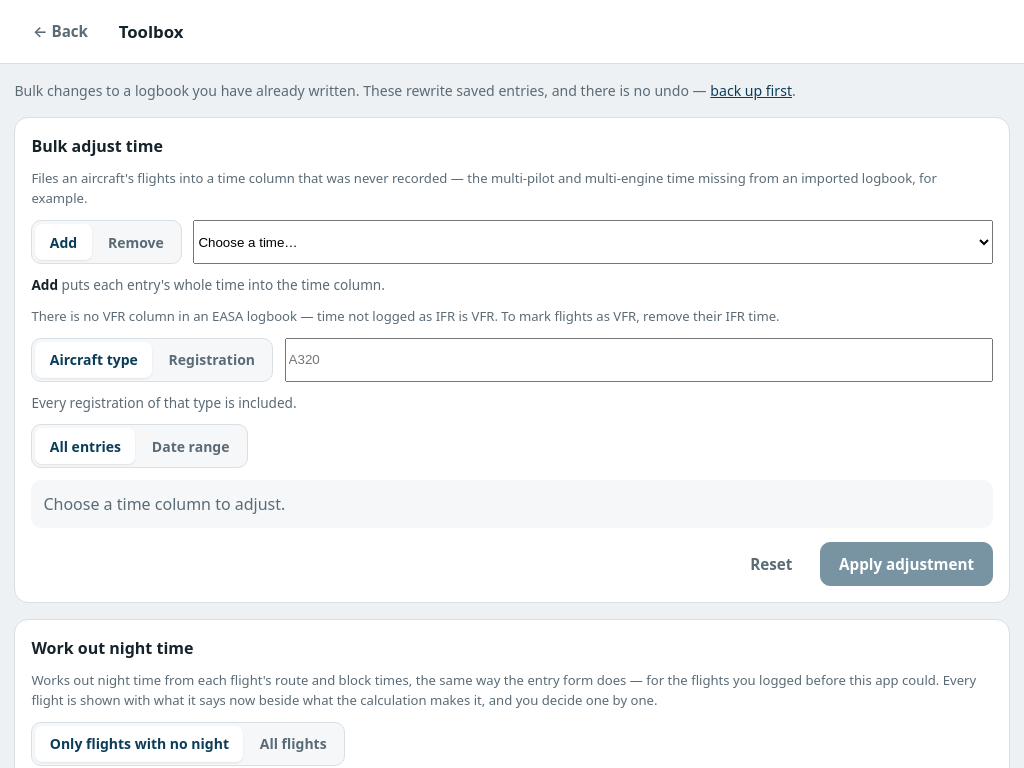
Test: what add and remove say they do › explains Remove as zeroing the column, total untouched
Select "IFR" in the dropdown named "Time column". click: coordinates (593, 242)
box: [193,220,993,264]
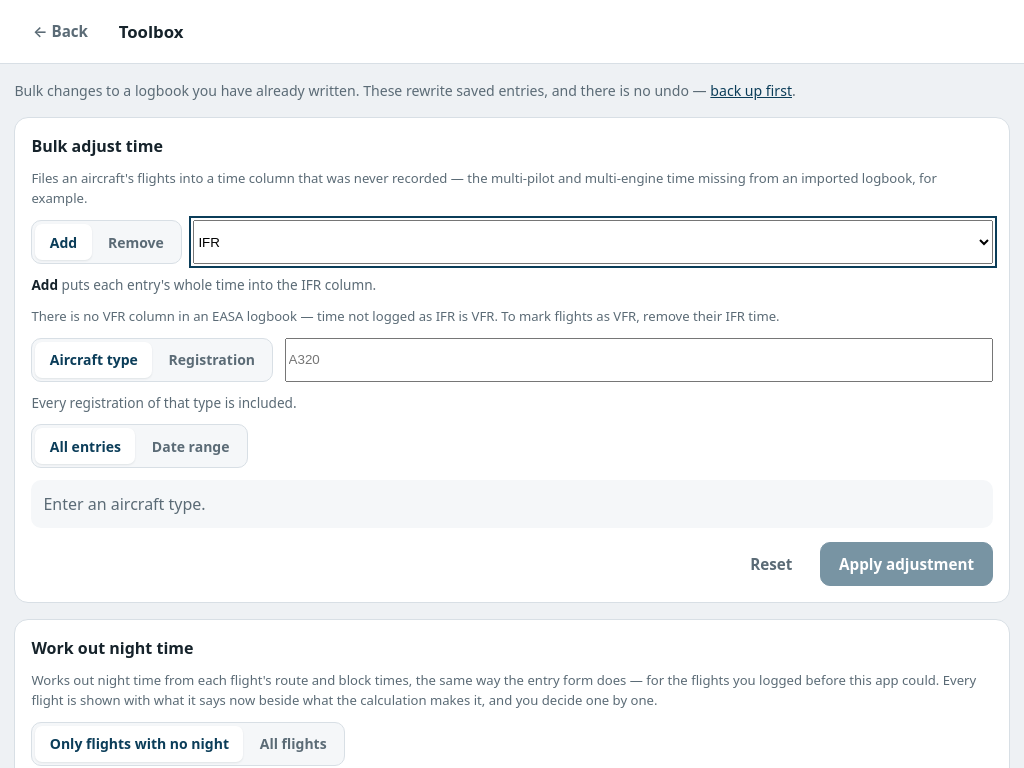
Click the button "Remove". click: coordinates (136, 242)
box: [94,224,178,260]
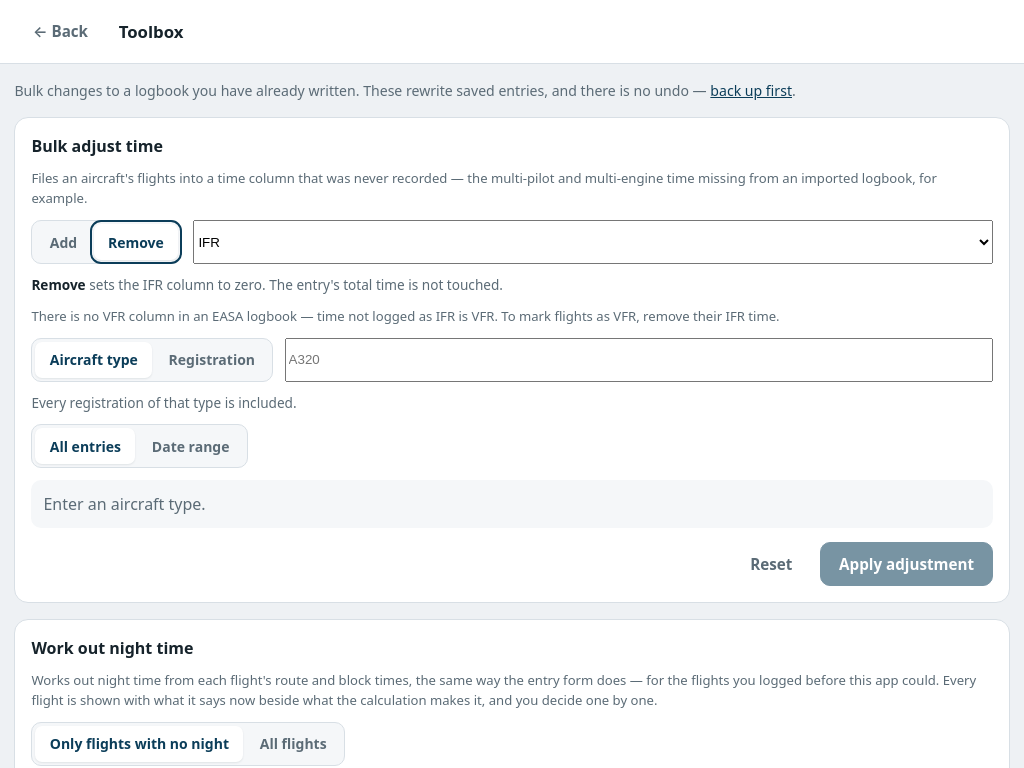
Expected: the text "total time is not touched" is shown, [86,275,503,294]
